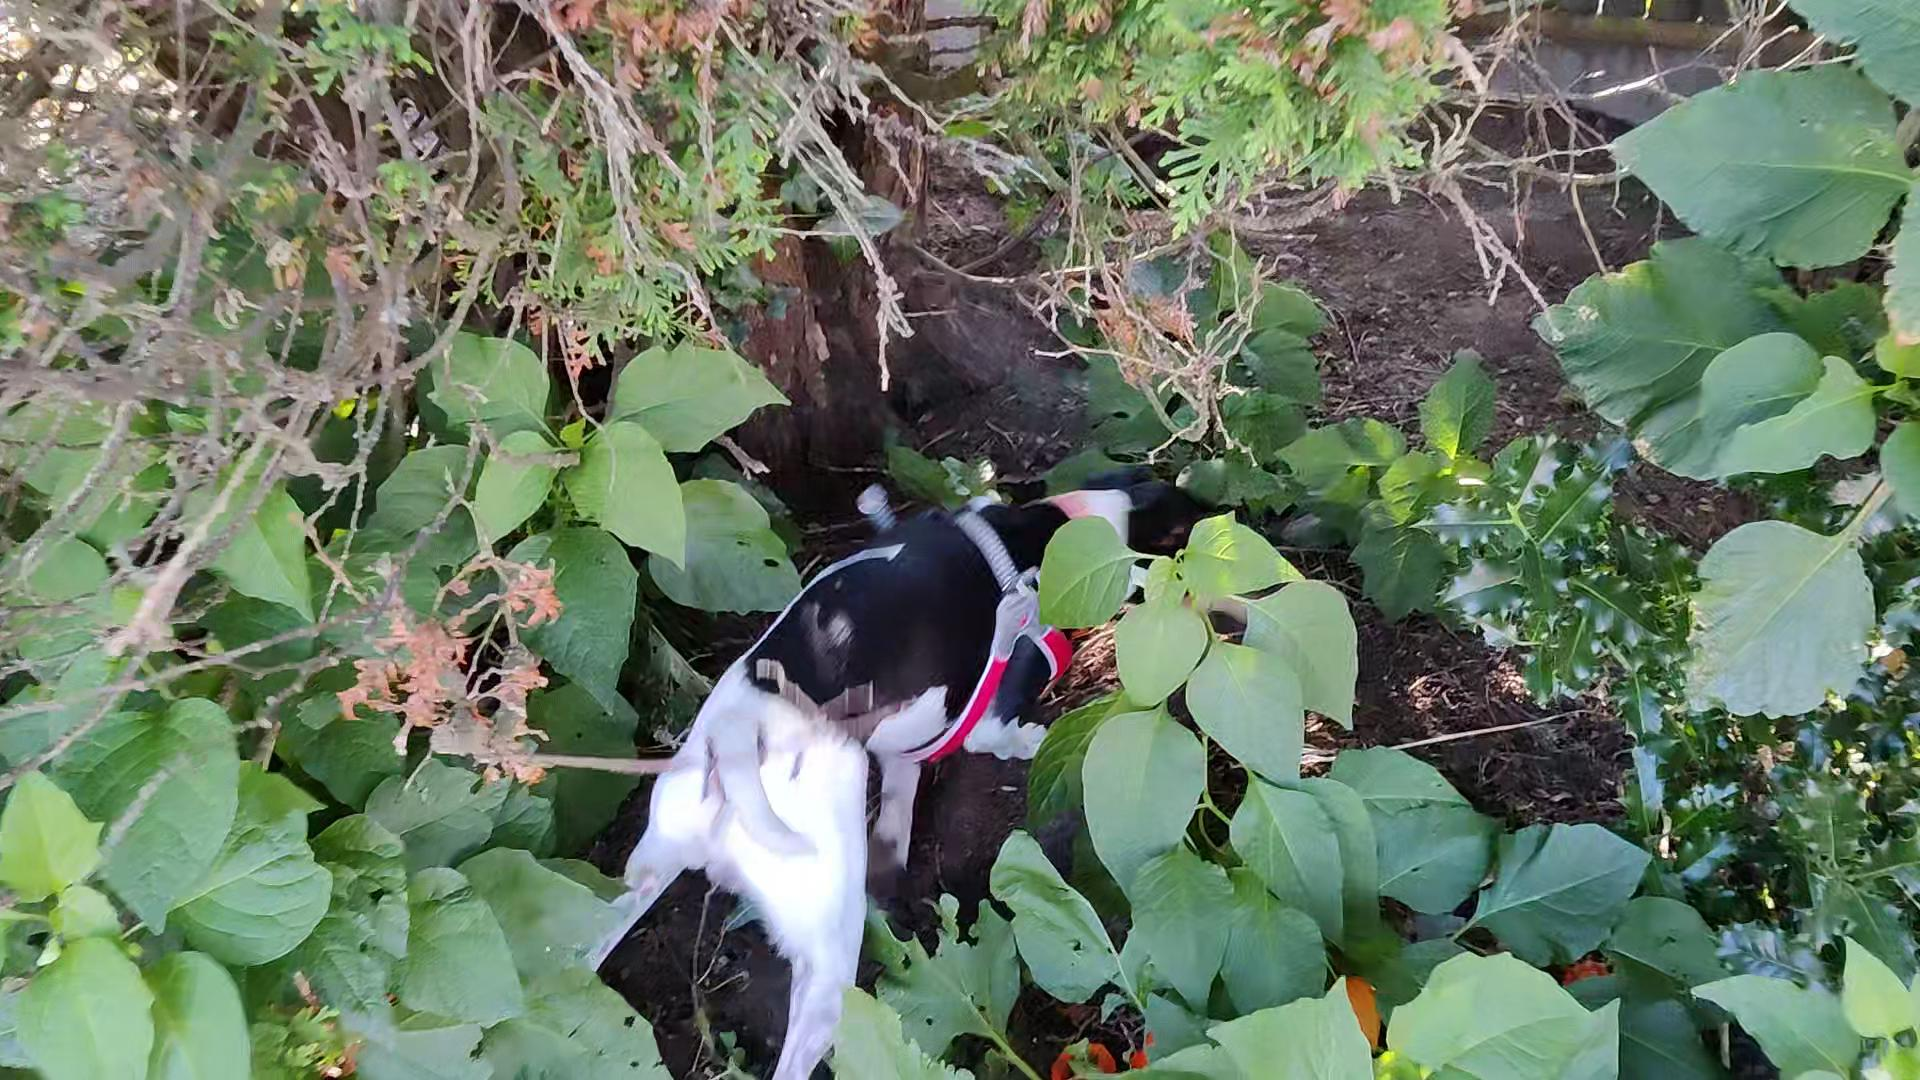Dog: (524, 451, 1247, 1079)
